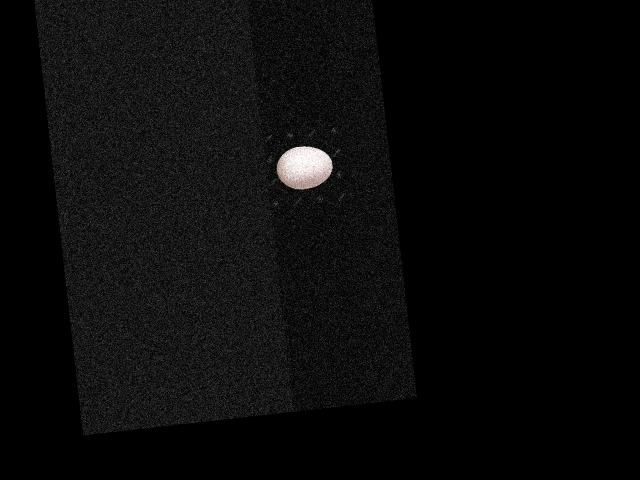egg: (274, 143, 334, 191)
